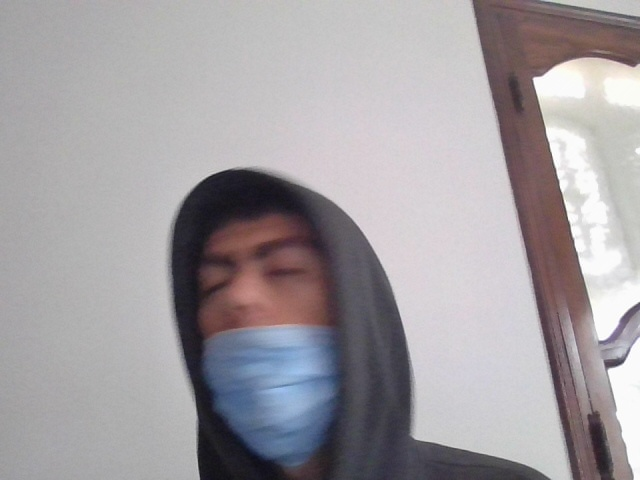mask_weared_incorrect: (191, 194, 354, 480)
